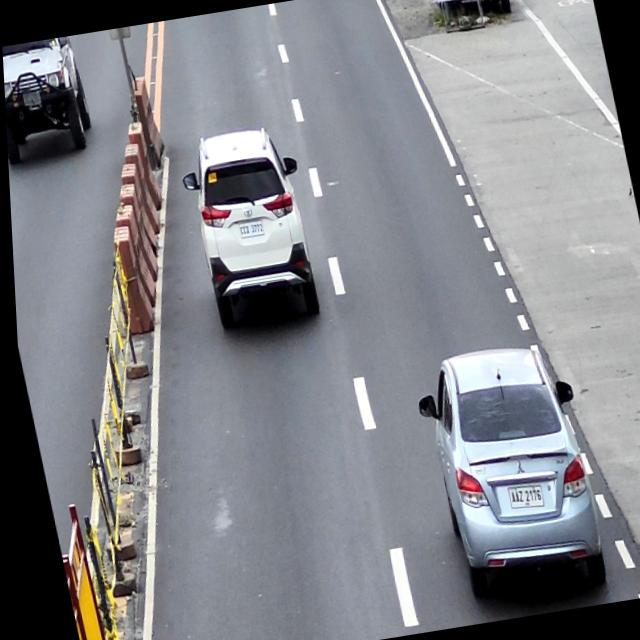Car: (403, 336, 608, 612), (172, 124, 328, 337)
License-Plate: (503, 482, 541, 512), (235, 219, 264, 239)
